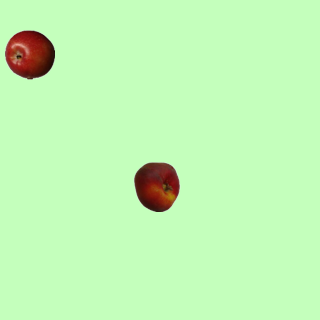Apple Braeburn: (4, 29, 54, 79)
Nectarine Flat: (131, 161, 181, 211)
